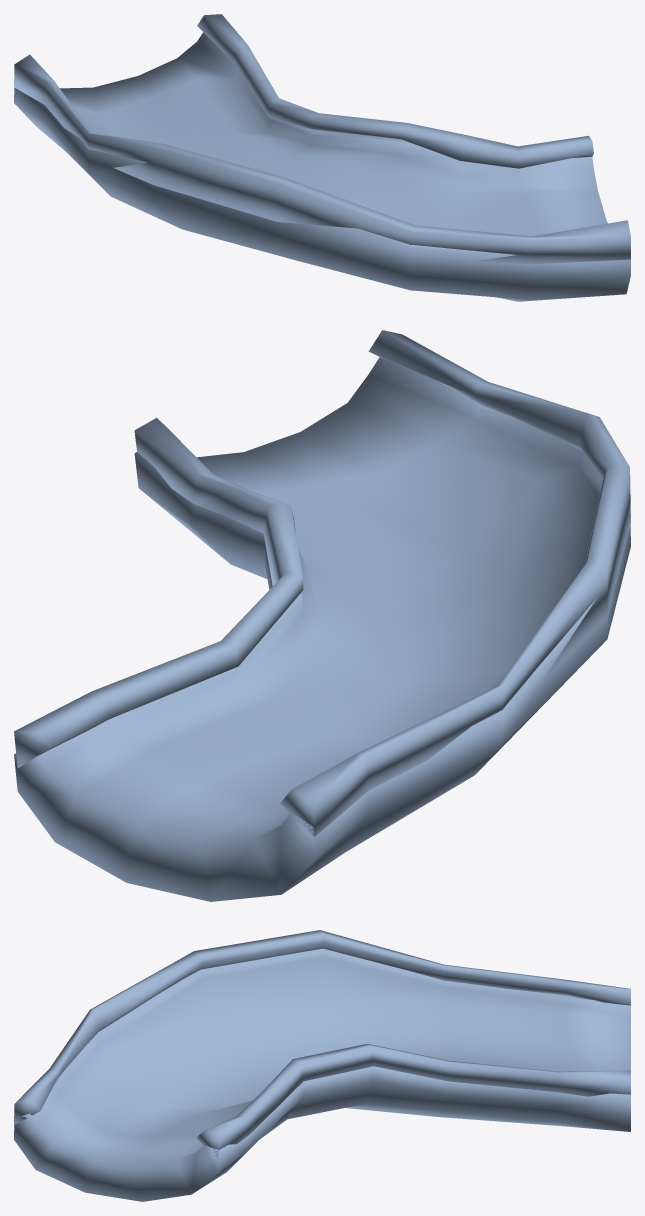
Rendered from junRoadShort10_70.fbx.
The picture shows the model from 3 angles, top to bottom: view 1: azimuth 30°, elevation 25°; view 2: azimuth 150°, elevation 25°; view 3: azimuth 270°, elevation 25°; orthographic projection. The views are drawn at different scales.
Visible parts, largest first — view 1: roadShort10_70_LOD0, roadShort10_70_edge_LOD0; view 2: roadShort10_70_LOD0, roadShort10_70_edge_LOD0; view 3: roadShort10_70_LOD0, roadShort10_70_edge_LOD0.
Boxes of the visible parts, x1=… form: roadShort10_70_LOD0: x1=14, y1=32, x2=630, y2=301; roadShort10_70_edge_LOD0: x1=14, y1=14, x2=630, y2=264; roadShort10_70_LOD0: x1=14, y1=357, x2=630, y2=901; roadShort10_70_edge_LOD0: x1=14, y1=330, x2=630, y2=836; roadShort10_70_LOD0: x1=14, y1=948, x2=630, y2=1201; roadShort10_70_edge_LOD0: x1=14, y1=930, x2=630, y2=1156.
Bounding box in the file's own units: 1764 × 612 × 2717.
